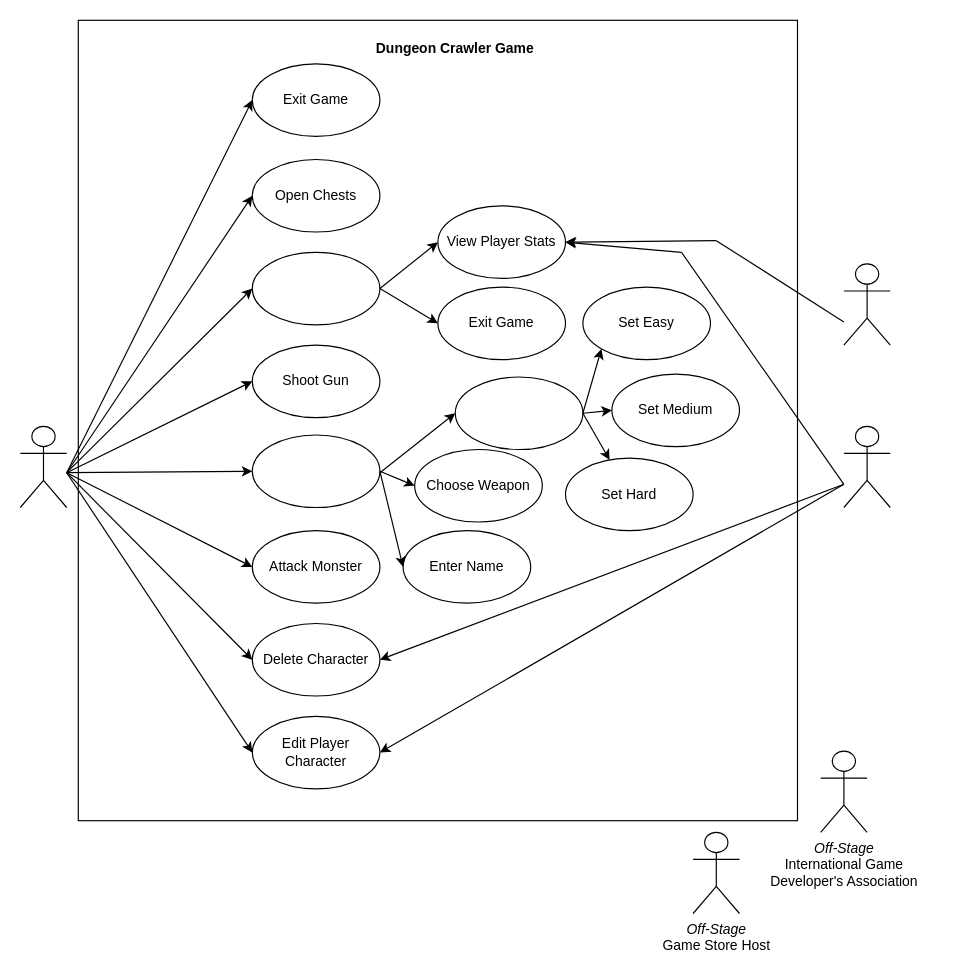
This 954x976 diagram has some shape labels left out. Here are the shapes that lost their labels. From the top down, the centre of each, then its label:
At (x=315, y=288): "Pause Game".
At (x=866, y=304): "Supporting Third-Party Database".
At (x=518, y=412): "Choose Difficulty".
At (x=43, y=466): "Primary Player".
At (x=315, y=470): "Start New Game".
At (x=866, y=466): "Supporting Game Admin".
